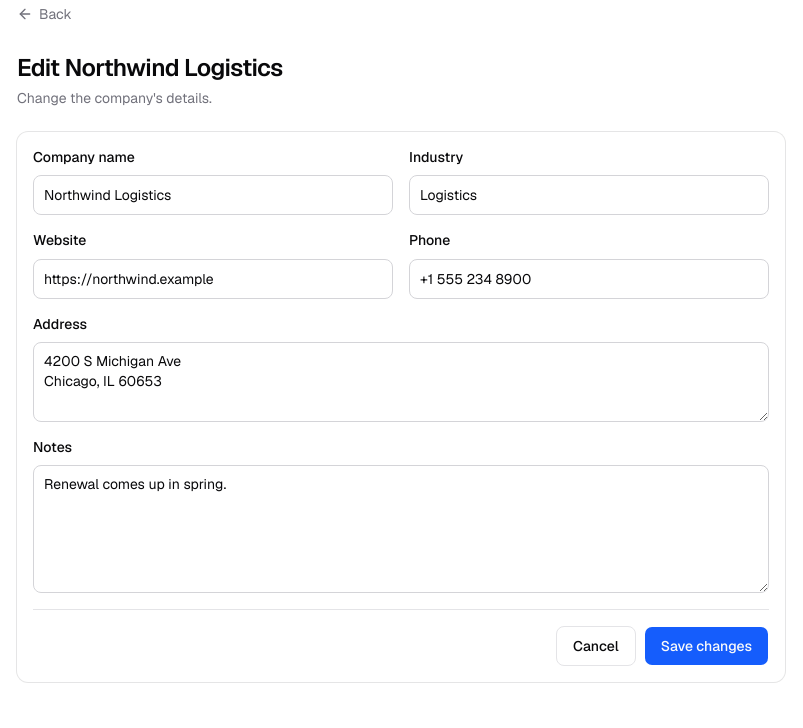
Test: EditCompanyPage › puts the server's validation details on the matching fields
This screenshot has width=803, height=728.
Expected: the field labelled "Company name" is shown, [33, 175, 393, 215]
Step 1. Type "9" into the field labelled "Phone" → (589, 278), box [409, 258, 769, 298]
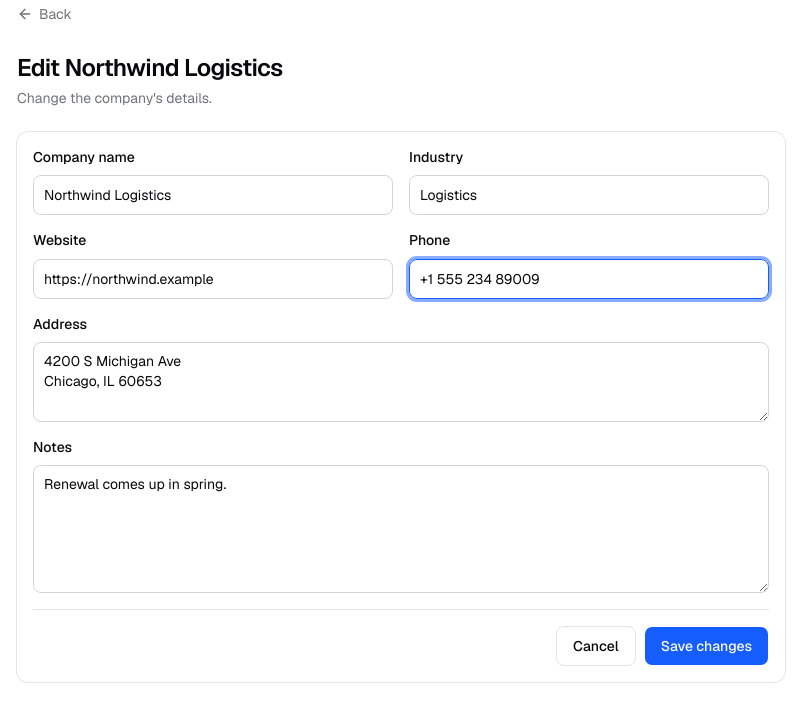
Step 2. Click the button "Save changes" → click(706, 646), box [644, 626, 769, 666]
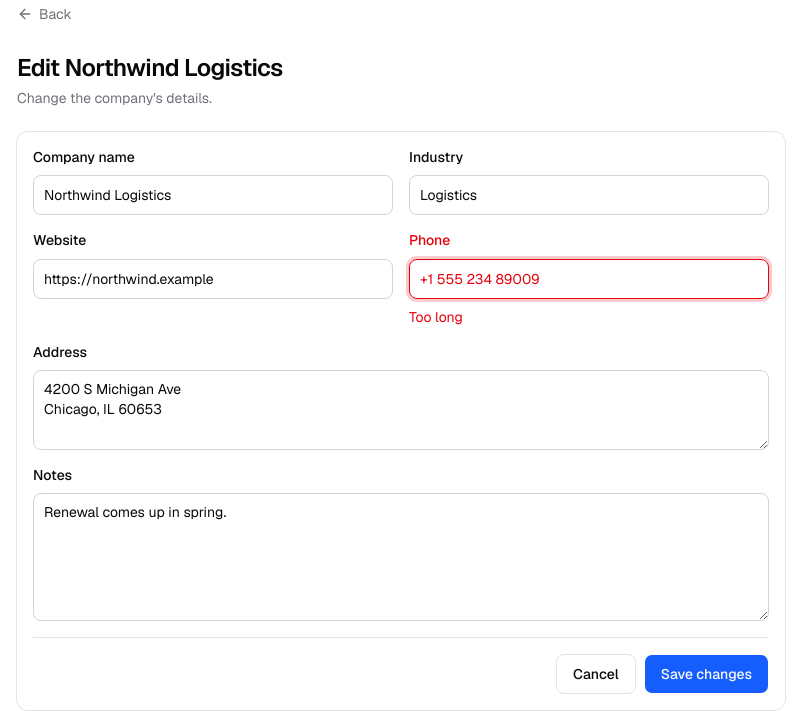
Expected: the text "Too long" is shown, [409, 308, 463, 326]
